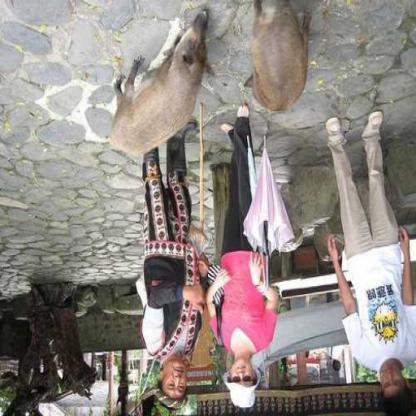boar: (109, 6, 222, 158), (233, 1, 321, 131)
